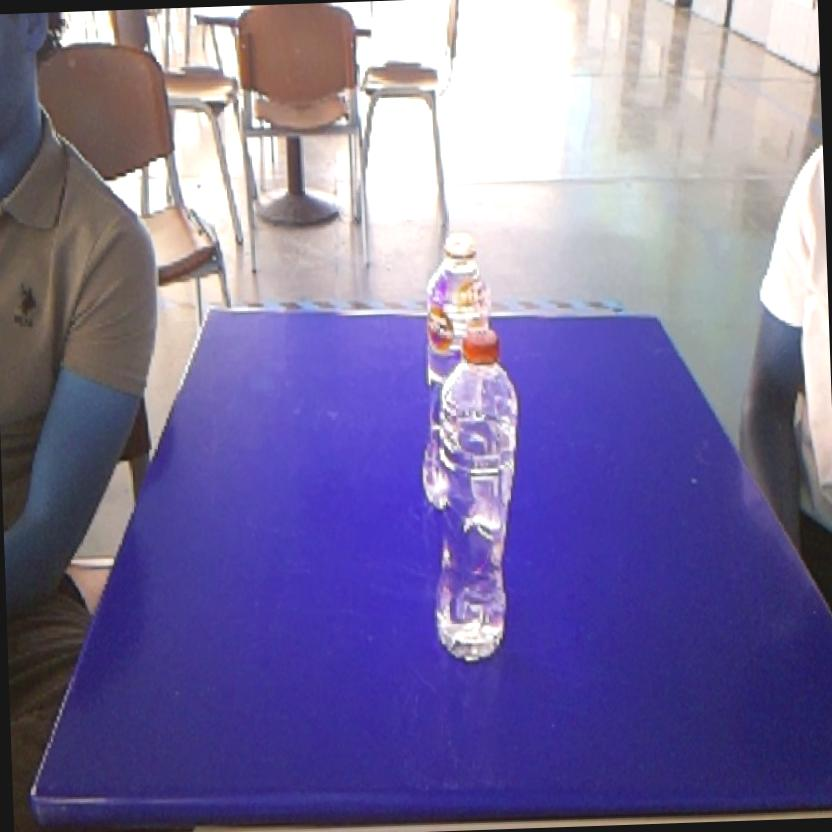no_cap: (416, 224, 504, 322)
no_label: (419, 324, 532, 670)
